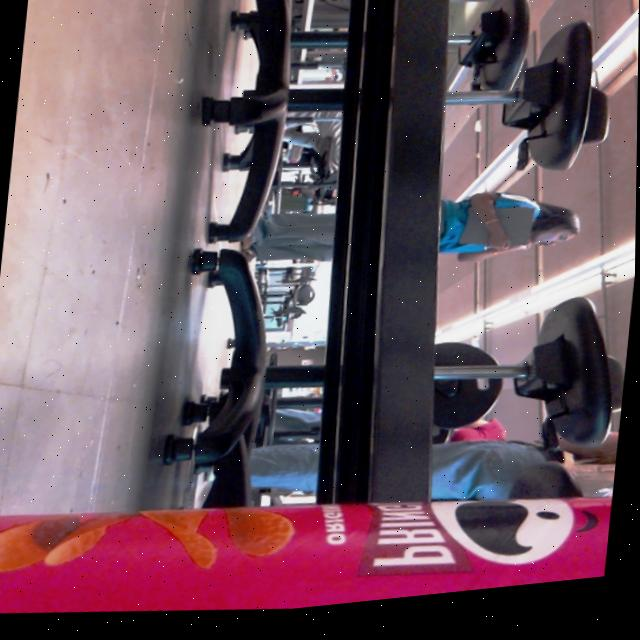redpringles: (0, 450, 614, 640)
